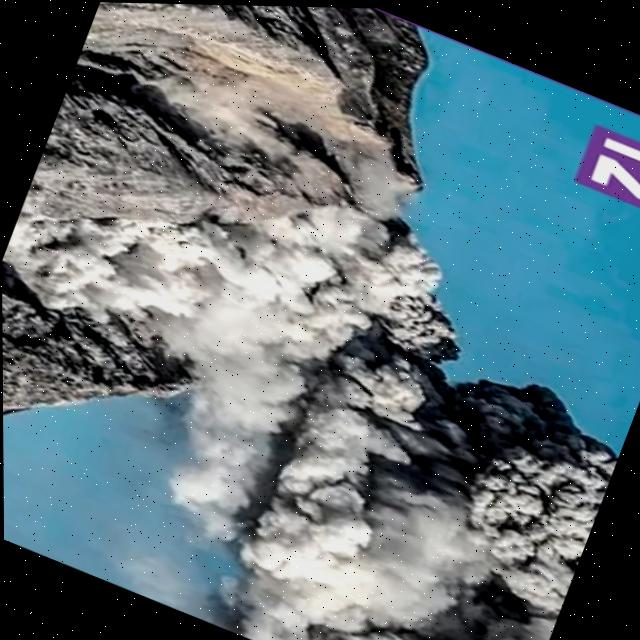Smoke: (112, 155, 640, 640)
